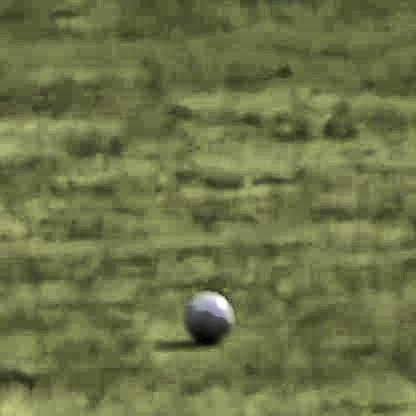golfball: (182, 288, 232, 339)
